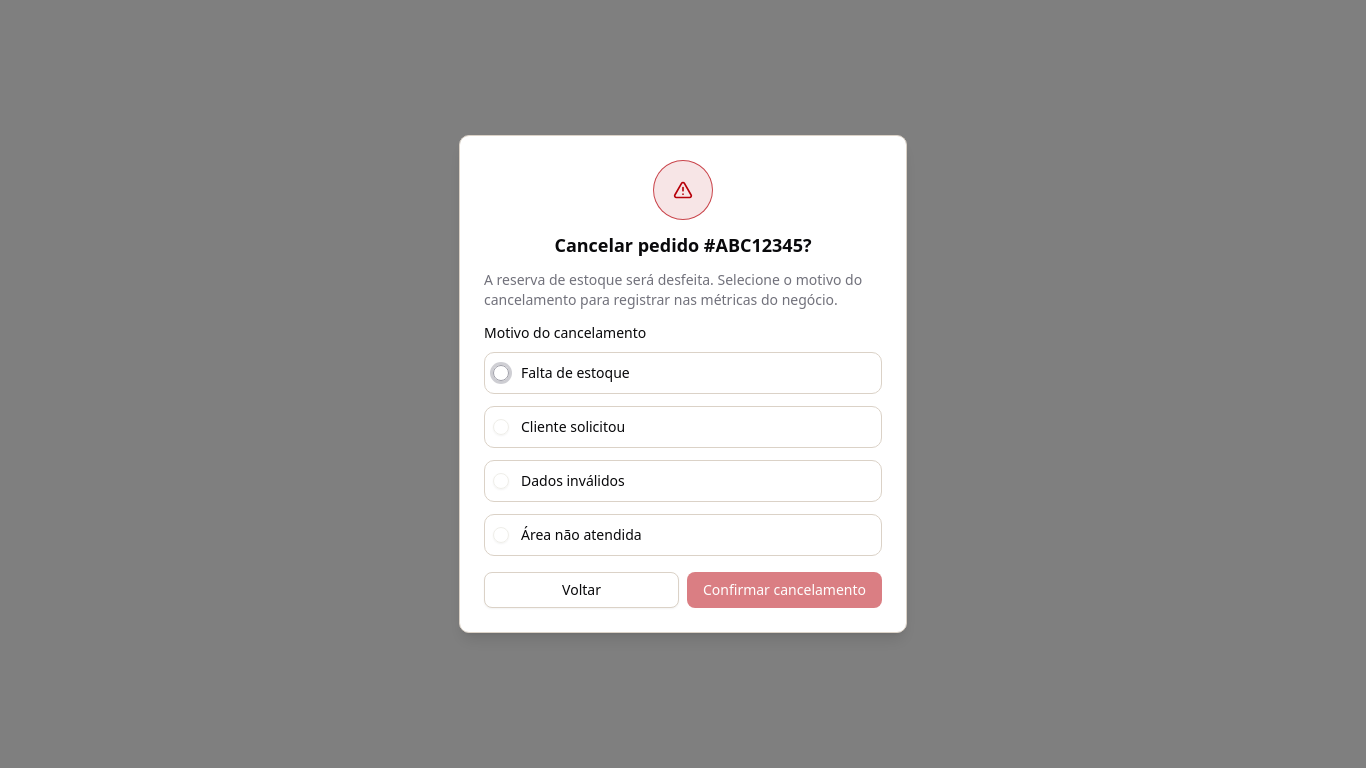
Test case: CancelOrderDialog › should enable "Confirmar cancelamento" once a reason is selected
Click the text "Falta de estoque" at point(575, 373), box [521,366,630,380]
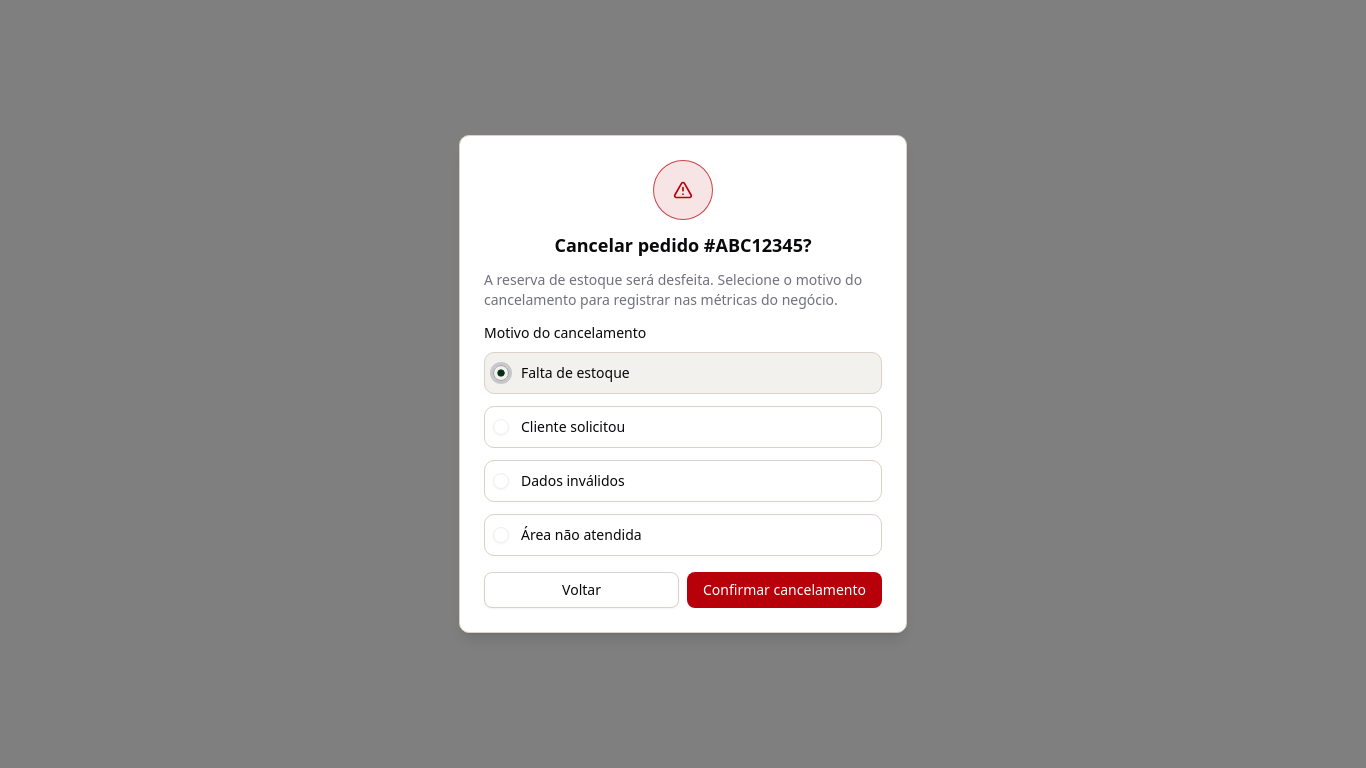
Check: the button "Confirmar cancelamento" is enabled, box [687,572,882,608]
